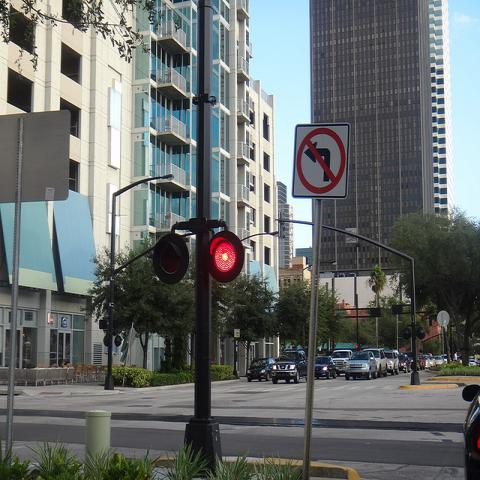car: (462, 380, 479, 479), (270, 349, 308, 384), (346, 350, 378, 379), (363, 346, 388, 378), (247, 358, 274, 382), (331, 350, 353, 376), (315, 356, 337, 380), (386, 350, 399, 376), (404, 352, 421, 370), (398, 354, 411, 373), (426, 354, 435, 367), (433, 355, 444, 365)
